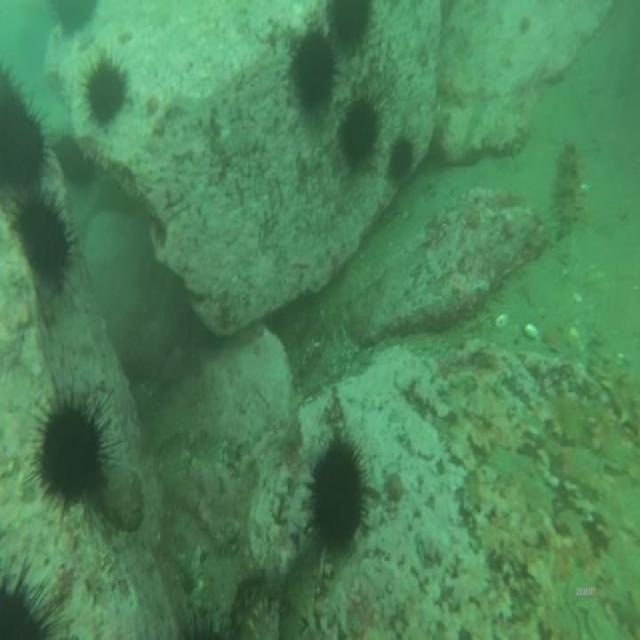echinus: (38, 384, 105, 528), (306, 436, 364, 561), (15, 190, 71, 294), (0, 64, 44, 194), (286, 24, 342, 123), (336, 85, 385, 184), (319, 0, 379, 66), (83, 51, 128, 131), (53, 128, 97, 191), (387, 126, 422, 190)
holothurian: (592, 357, 640, 443), (553, 133, 586, 243)
